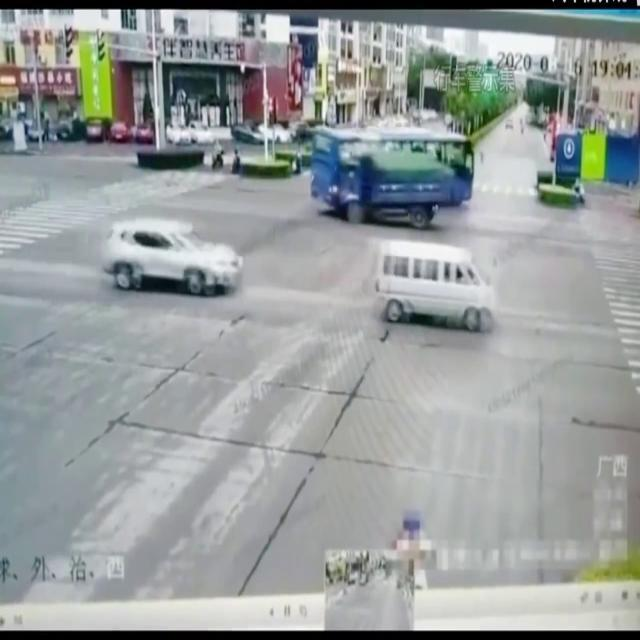normal: (348, 202, 550, 360), (104, 205, 248, 304)
